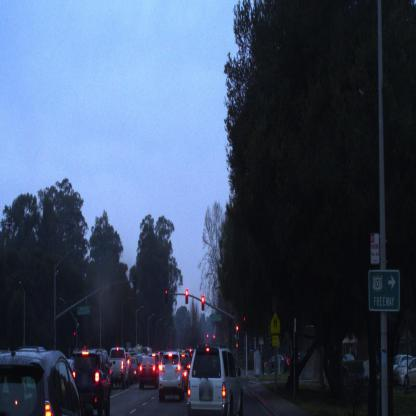car: (1, 348, 90, 416), (185, 347, 241, 416), (70, 348, 111, 415), (159, 352, 185, 402), (110, 348, 132, 390), (137, 357, 160, 390), (393, 356, 415, 389)
sign: (369, 266, 401, 310), (270, 303, 281, 347), (210, 313, 222, 321)
traffic light: (200, 294, 205, 313), (164, 288, 169, 305), (185, 288, 190, 305), (242, 314, 246, 331)
